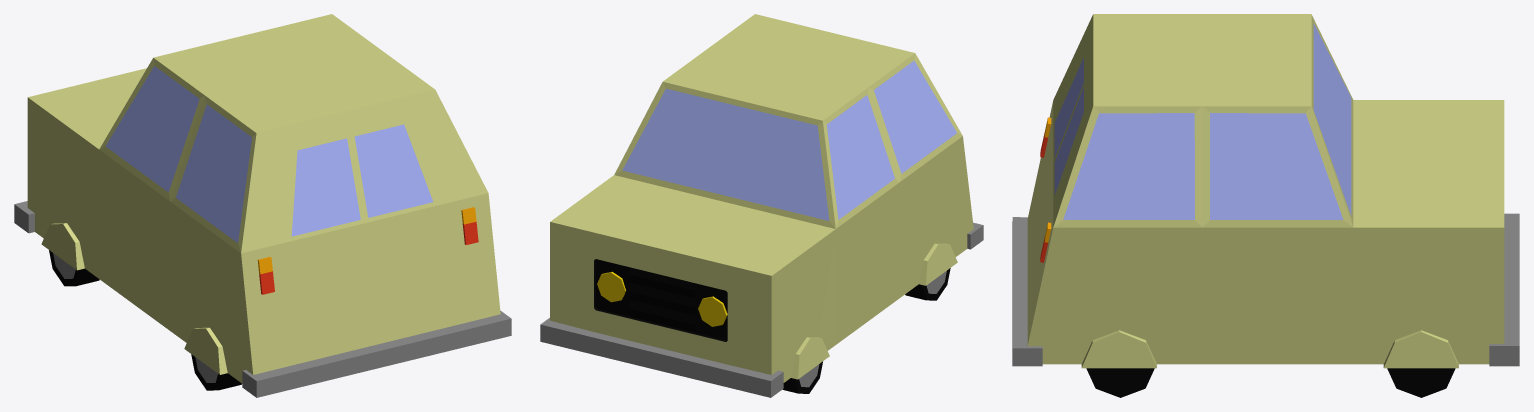
File: omelette-car.glb
The picture shows the model from 3 angles, left to right: view 1: azimuth 30°, elevation 25°; view 2: azimuth 150°, elevation 25°; view 3: azimuth 270°, elevation 25°; orthographic projection. The views are drawn at different scales.
Visible parts, largest first — view 1: car; view 2: car; view 3: car.
Part boxes in pixels (x1,y1,x2,y2): car: (14, 14, 511, 397); car: (540, 14, 983, 397); car: (1012, 14, 1519, 397).
Size of the model in its own units: 1.7 by 1.59 by 2.69.
